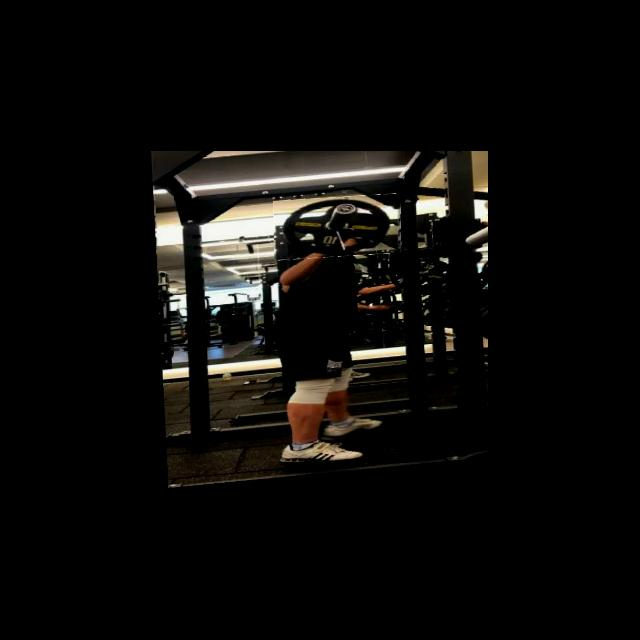barbell: (272, 195, 401, 266)
